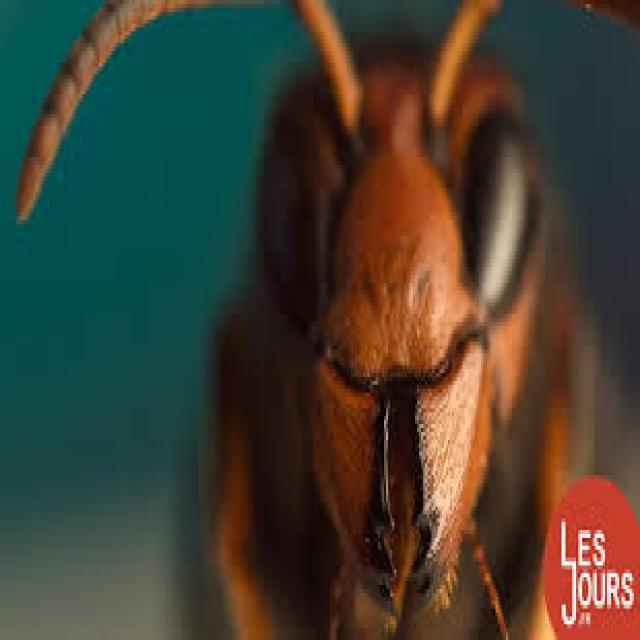Vespa Velutina: (4, 0, 638, 636)
